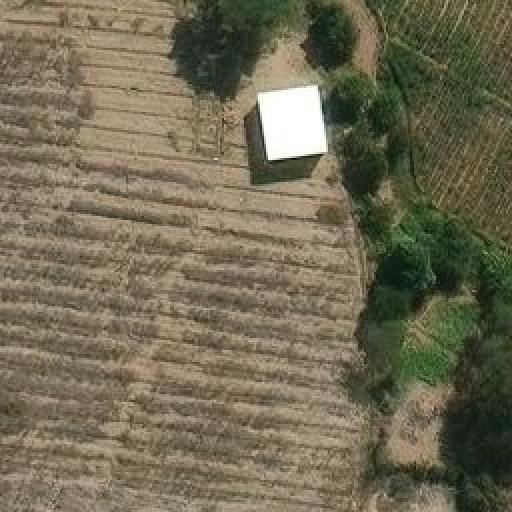manzanas: (253, 84, 336, 163)
